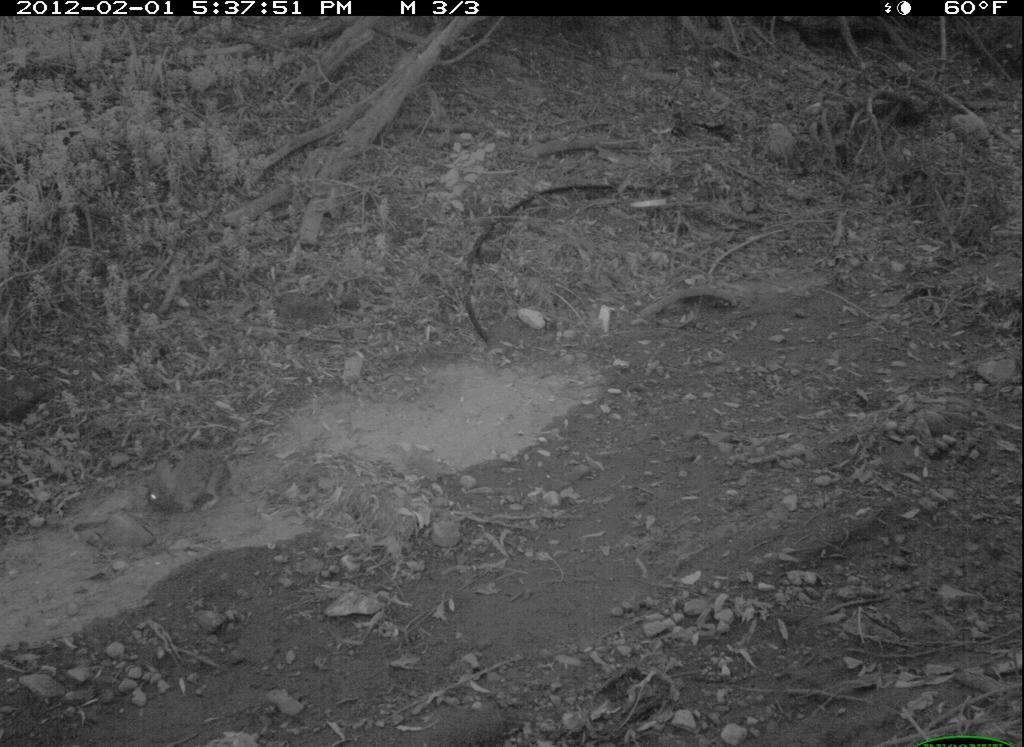rabbit: (137, 445, 248, 534)
